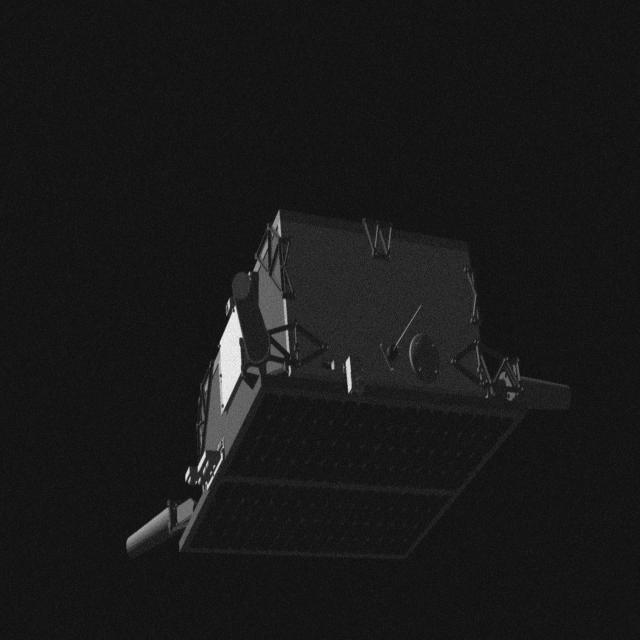satellite: (122, 208, 574, 596)
